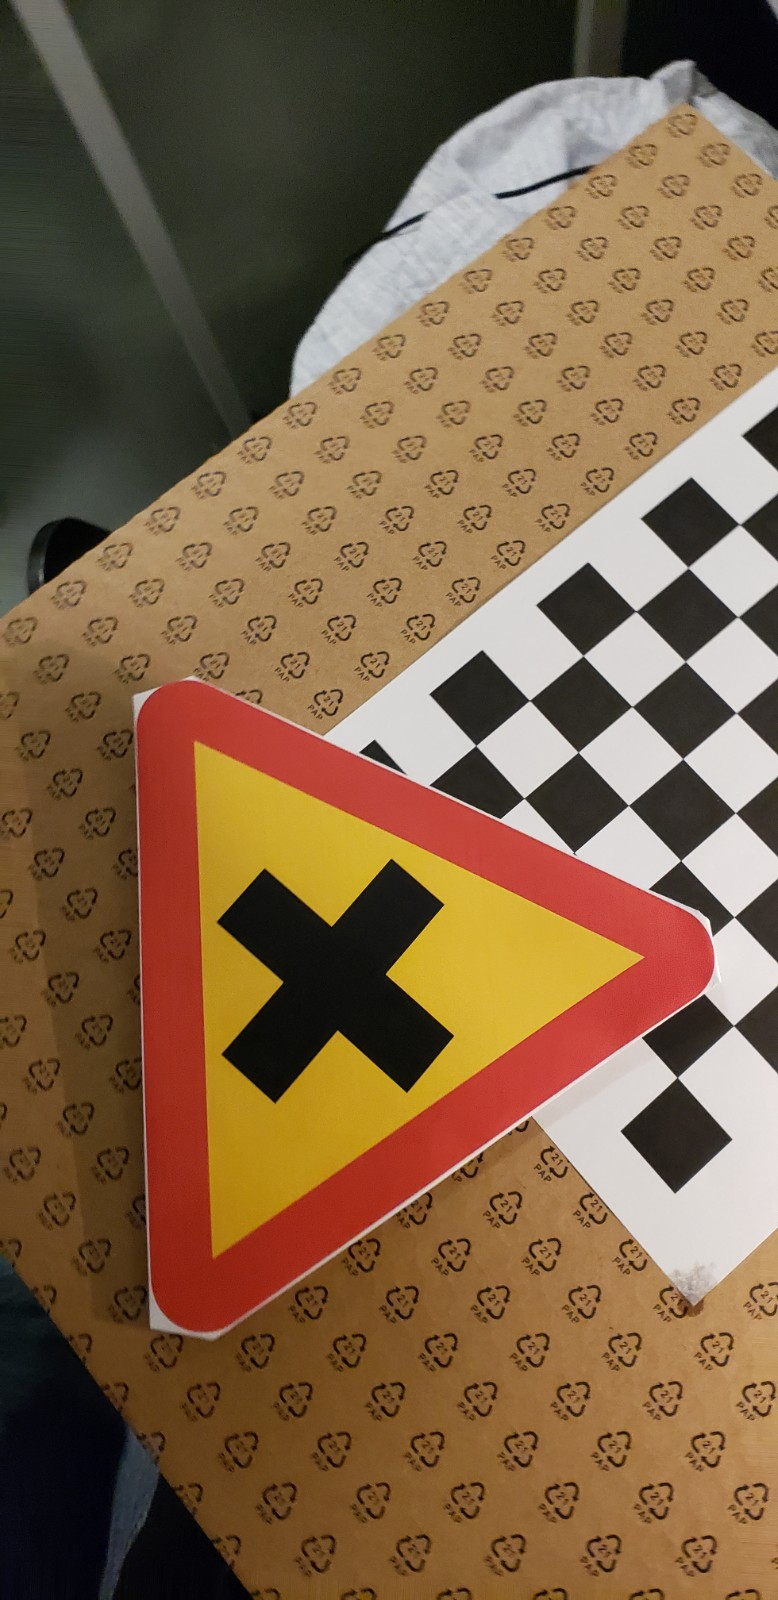junction: (49, 635, 737, 1403)
